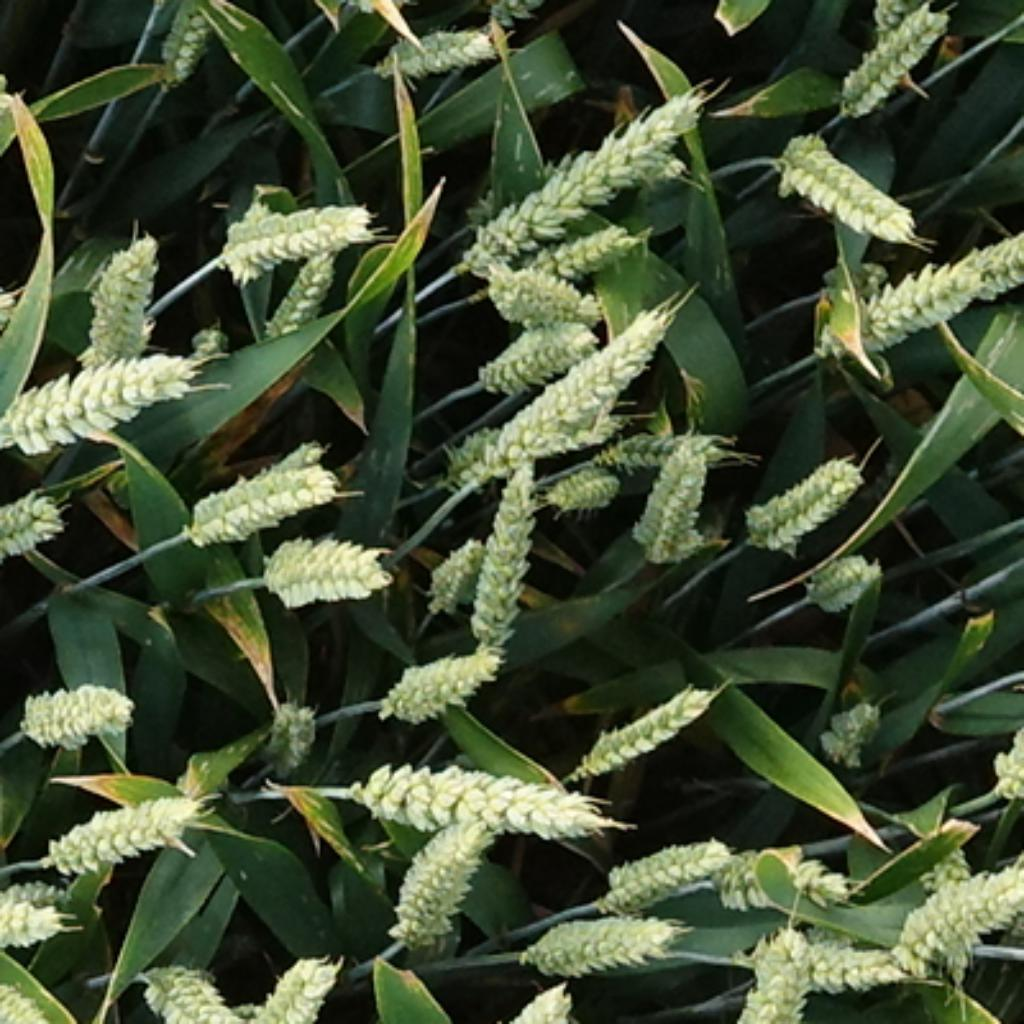0-0: (465, 89, 706, 271), (465, 307, 673, 458), (348, 750, 614, 837), (465, 135, 698, 227), (0, 357, 195, 465), (888, 834, 1021, 970), (814, 258, 988, 358), (775, 133, 926, 245), (176, 437, 340, 537), (440, 486, 550, 632), (43, 783, 212, 878), (384, 801, 496, 942), (573, 668, 719, 775), (209, 192, 381, 279), (834, 2, 960, 115), (744, 448, 875, 552), (750, 924, 934, 998), (629, 417, 719, 563), (74, 220, 166, 358), (442, 417, 622, 486), (921, 837, 988, 1016), (519, 906, 688, 975), (253, 529, 394, 611), (376, 637, 504, 724), (593, 839, 742, 913), (711, 832, 860, 906), (7, 673, 140, 755), (716, 924, 821, 1024), (471, 317, 609, 389), (261, 243, 345, 348), (371, 12, 501, 76), (235, 947, 343, 1024), (517, 220, 652, 279), (481, 253, 593, 320), (143, 965, 266, 1024), (604, 427, 734, 478), (0, 480, 72, 568), (156, 0, 228, 88), (798, 545, 888, 614), (424, 529, 494, 614), (253, 693, 320, 778), (816, 693, 890, 768), (954, 235, 1024, 302), (480, 979, 581, 1024), (542, 463, 624, 514), (0, 899, 71, 955), (250, 432, 335, 473), (989, 725, 1023, 810), (821, 258, 890, 299), (0, 980, 64, 1024), (151, 1006, 284, 1024), (0, 871, 75, 901), (186, 322, 230, 363), (872, 2, 913, 46)
